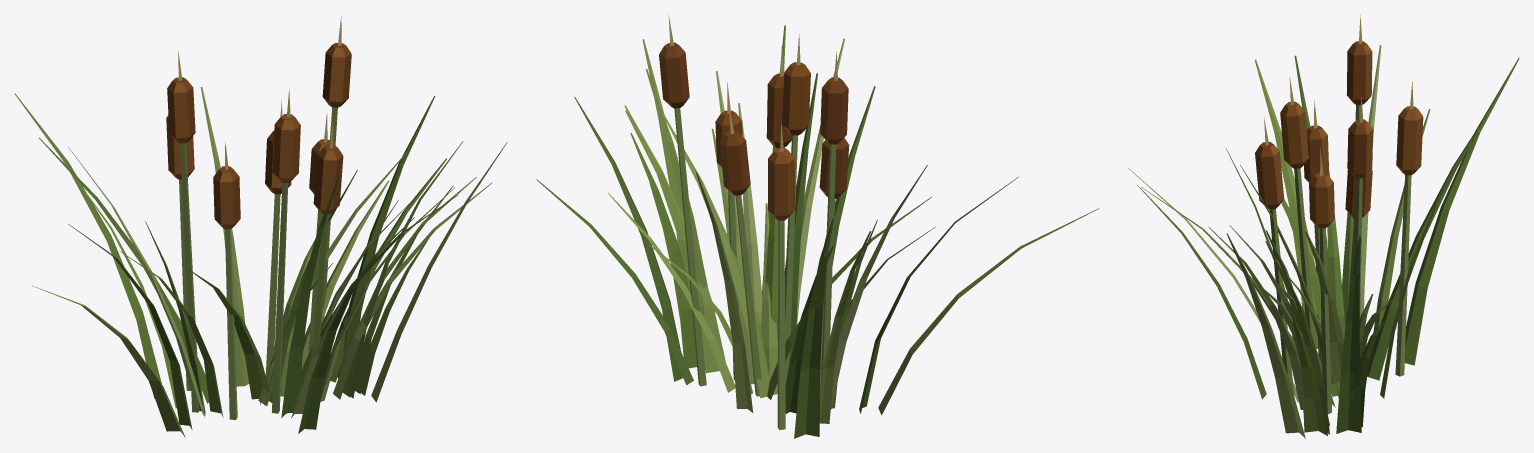
Rendered from river_cattails.glb.
The picture shows the model from 3 angles, left to right: view 1: azimuth 30°, elevation 25°; view 2: azimuth 150°, elevation 25°; view 3: azimuth 270°, elevation 25°; orthographic projection. The views are drawn at different scales.
Parts seen in each view (by area): view 1: river_cattails; view 2: river_cattails; view 3: river_cattails.
Part boxes in pixels (x1,y1,x2,y2): river_cattails: (14,16,507,437); river_cattails: (536,15,1099,438); river_cattails: (1128,15,1519,438).
Bounding box in the file's own units: 2.64 × 1.9 × 1.95.
